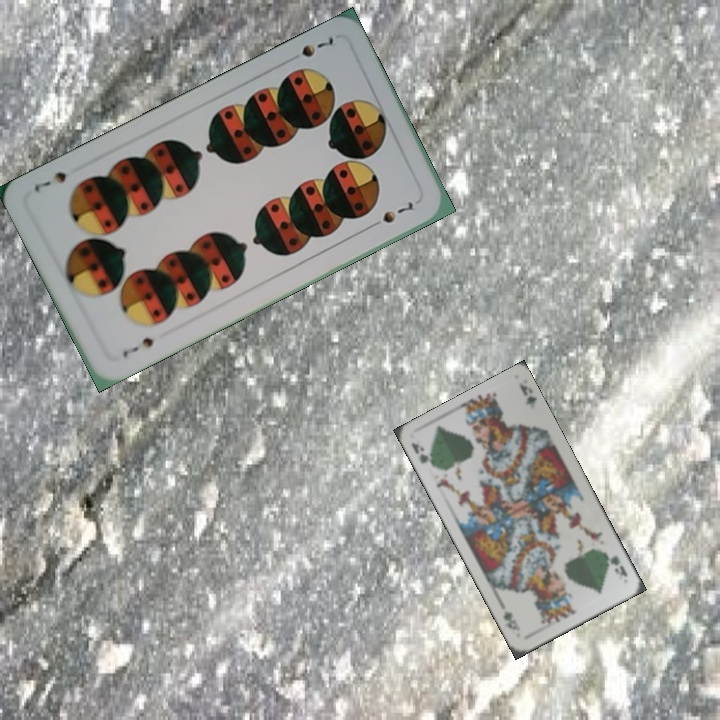GK: (407, 439, 438, 470), (606, 552, 630, 579)
S7: (297, 31, 336, 60), (118, 333, 156, 361)
